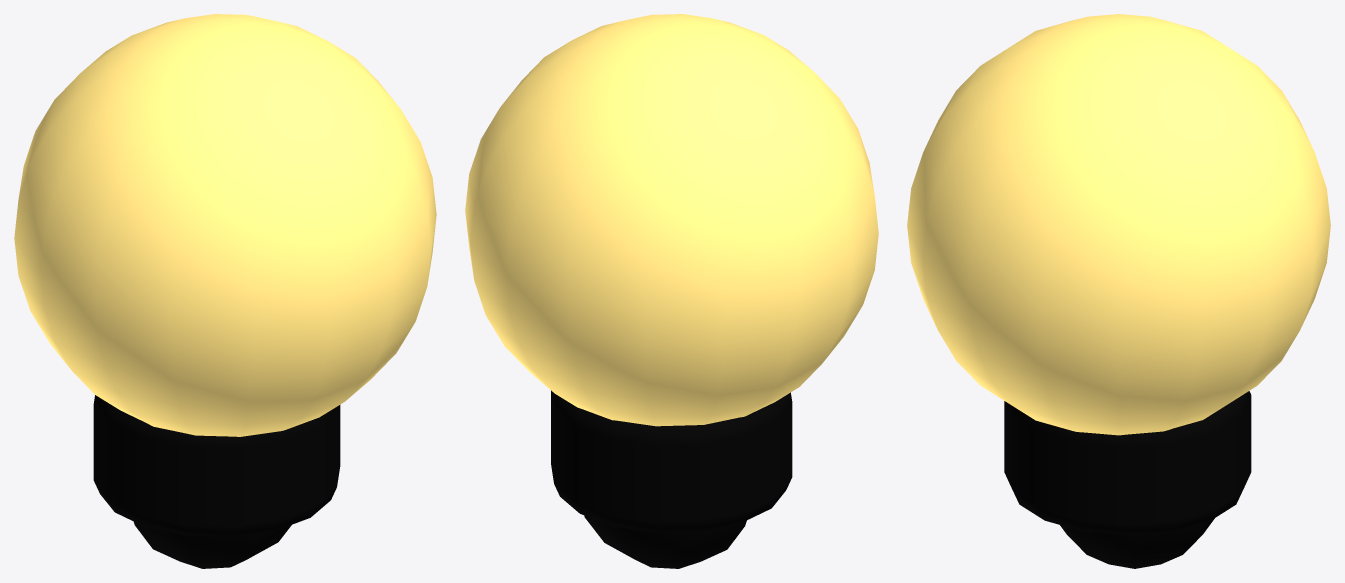
Rendered from Bulb.glb.
The picture shows the model from 3 angles, left to right: view 1: azimuth 30°, elevation 25°; view 2: azimuth 150°, elevation 25°; view 3: azimuth 270°, elevation 25°; orthographic projection. The views are drawn at different scales.
Parts seen in each view (by area): view 1: Sphere, Cylinder, Sphere 2; view 2: Sphere, Cylinder, Sphere 2; view 3: Sphere, Cylinder, Sphere 2.
Boxes of the visible parts, bbox=[...] form: Sphere: bbox=[14, 14, 436, 436]; Cylinder: bbox=[93, 395, 340, 536]; Sphere 2: bbox=[134, 522, 291, 568]; Sphere: bbox=[465, 14, 878, 426]; Cylinder: bbox=[551, 390, 792, 532]; Sphere 2: bbox=[584, 515, 746, 568]; Sphere: bbox=[907, 14, 1330, 435]; Cylinder: bbox=[1004, 391, 1251, 535]; Sphere 2: bbox=[1060, 518, 1214, 568].
Bounding box in the file's own units: 0.4895 × 0.6741 × 0.4895.
